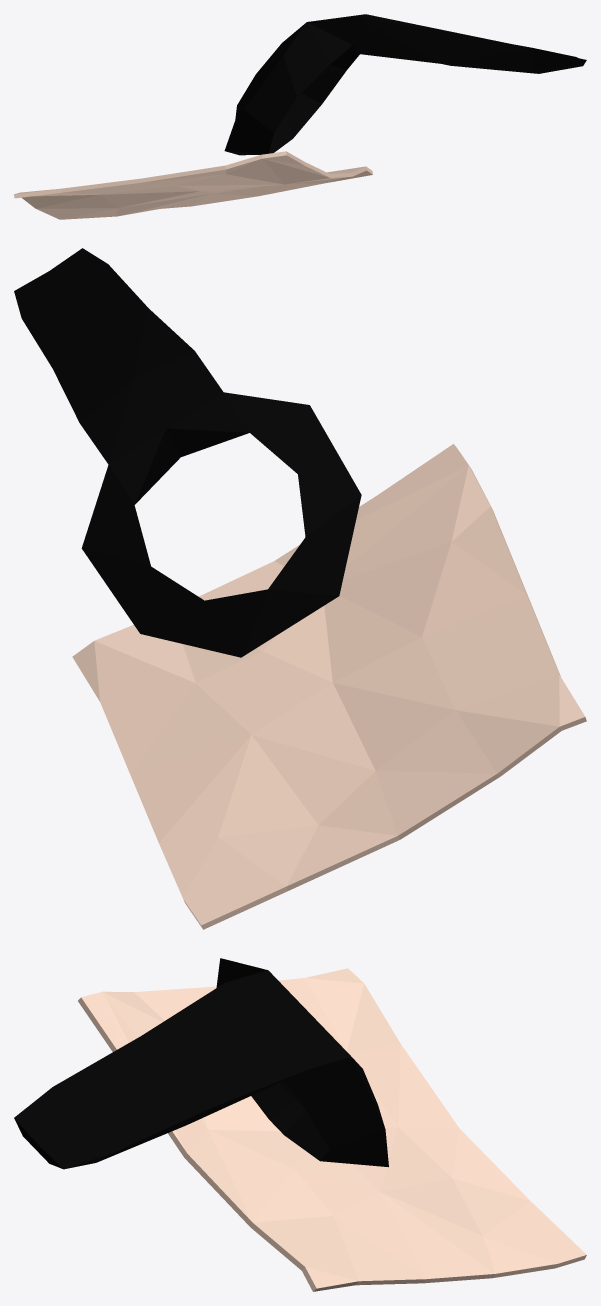
The model's file is Icon.glb.
The picture shows the model from 3 angles, top to bottom: view 1: azimuth 30°, elevation 25°; view 2: azimuth 150°, elevation 25°; view 3: azimuth 270°, elevation 25°; orthographic projection. The views are drawn at different scales.
Visible parts, largest first — view 1: Cube; view 2: Cube; view 3: Cube.
Part boxes in pixels (x1=…): Cube: x1=14, y1=14, x2=586, y2=219; Cube: x1=14, y1=248, x2=586, y2=929; Cube: x1=14, y1=958, x2=586, y2=1291.
Bounding box in the file's own units: 0.1555 × 0.0803 × 0.1133.
